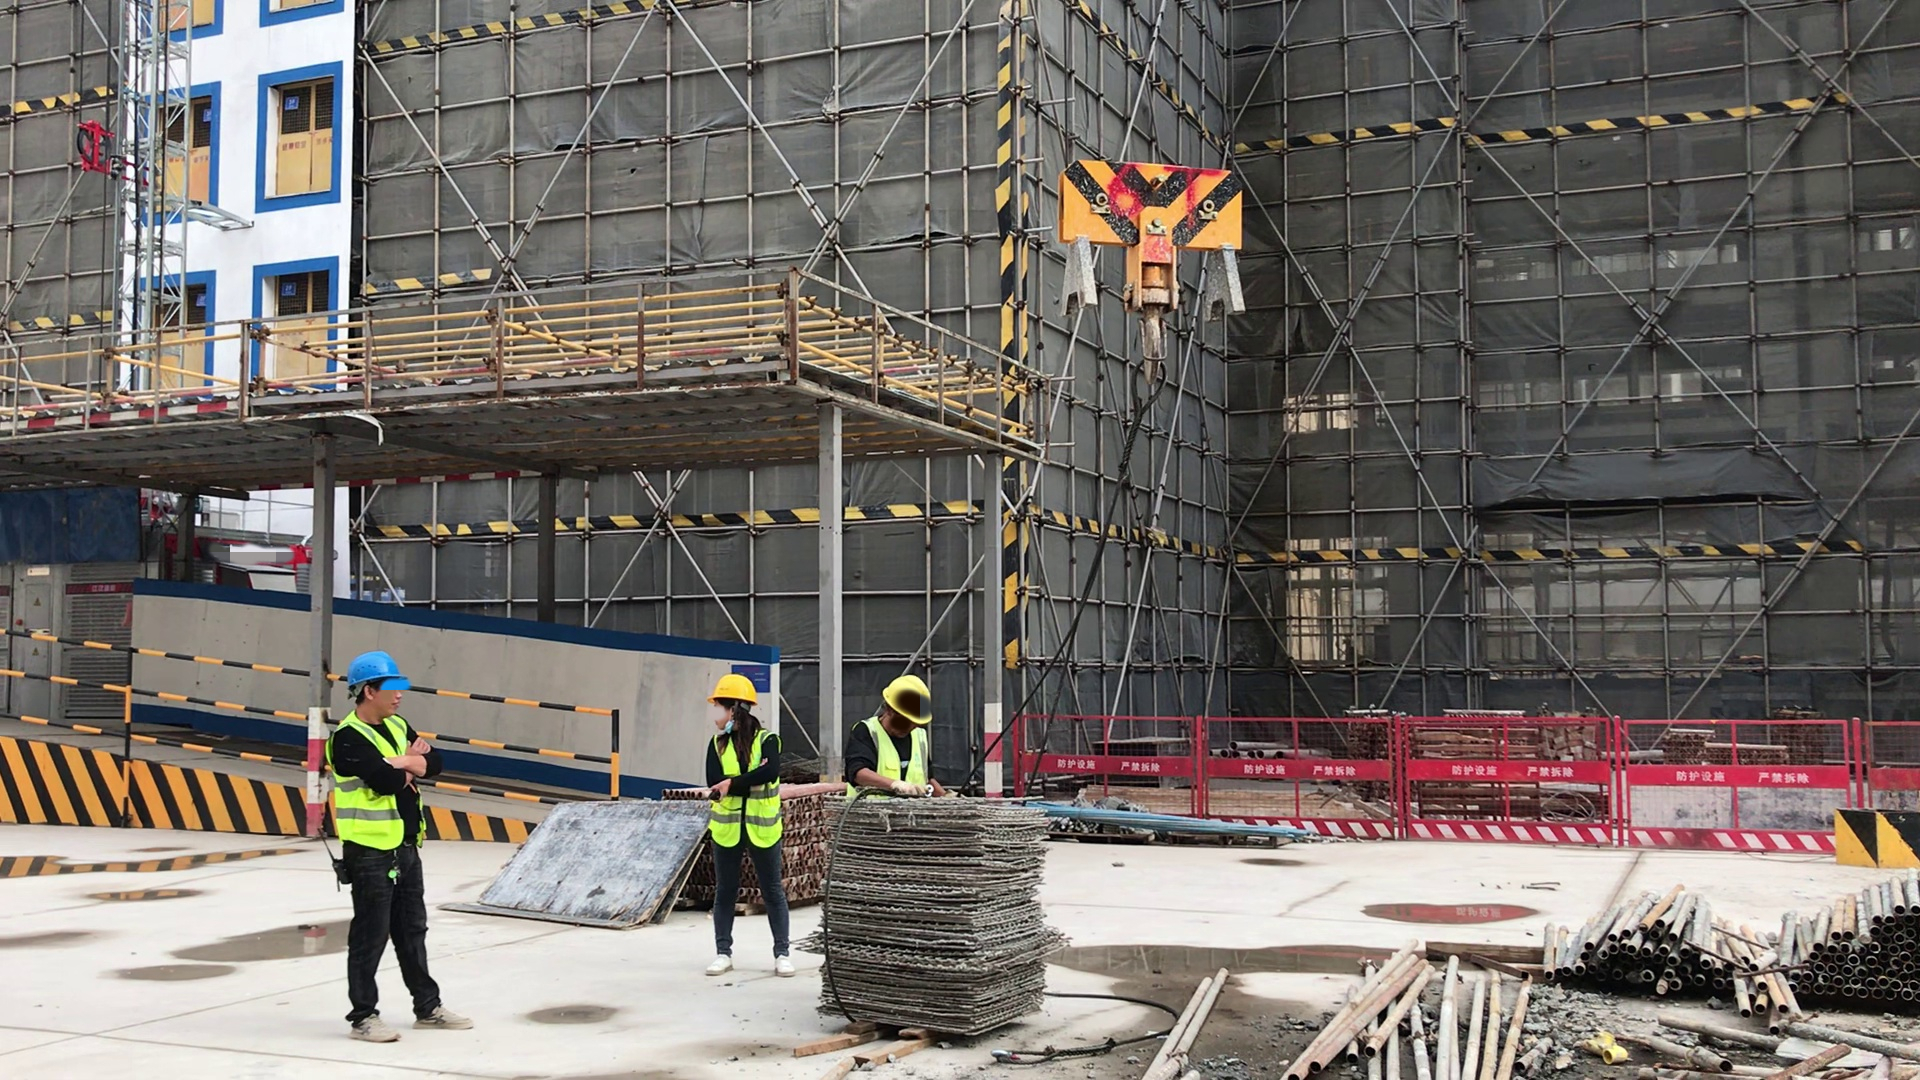fence: (1293, 698, 1830, 867), (19, 613, 307, 779), (1037, 702, 1306, 817), (422, 674, 624, 795)
helmet: (882, 680, 938, 731), (340, 654, 406, 694), (710, 675, 759, 715)
person: (328, 649, 477, 1045), (696, 672, 804, 980), (843, 676, 947, 804)
scaffold: (1776, 872, 1920, 1028), (1541, 887, 1745, 993)
slogan: (86, 584, 121, 593)
vest: (333, 712, 428, 853), (708, 730, 785, 852), (847, 720, 937, 798)
